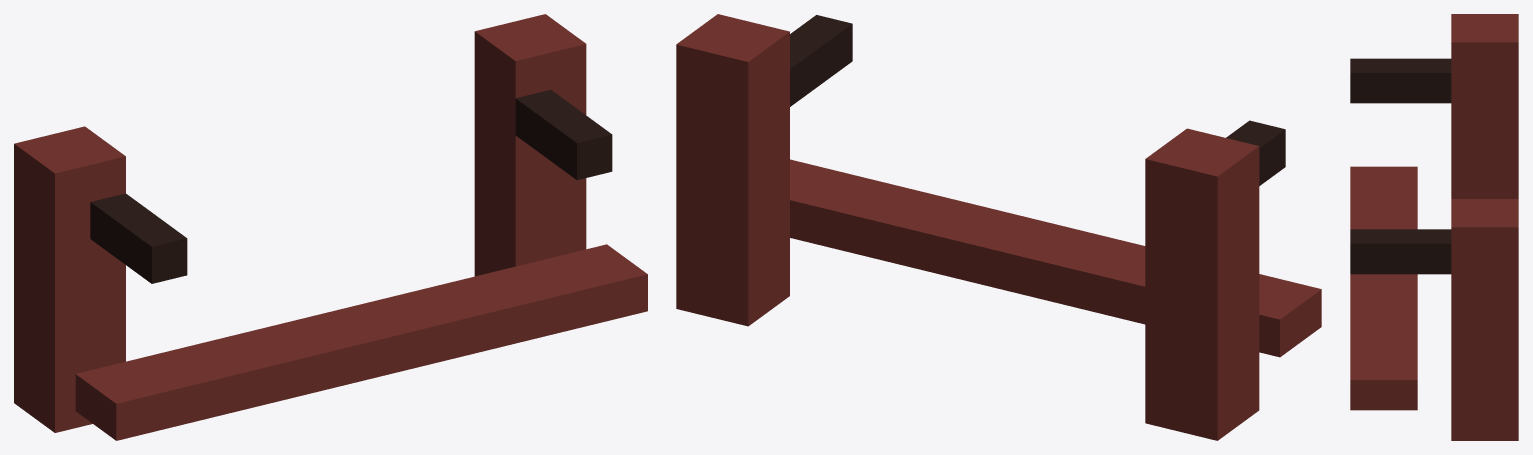
Rendered from bridge_b_ending.obj.
The picture shows the model from 3 angles, left to right: view 1: azimuth 30°, elevation 25°; view 2: azimuth 150°, elevation 25°; view 3: azimuth 270°, elevation 25°; orthographic projection. The views are drawn at different scales.
Bounding box in the file's own units: 1.5 × 0.7 × 0.5.
1 material, 1 textured.
